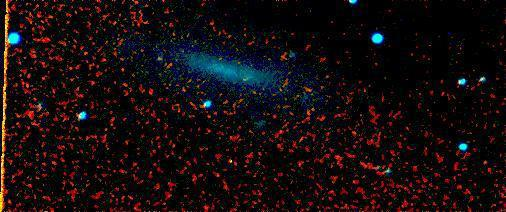star: (471, 150, 501, 180)
